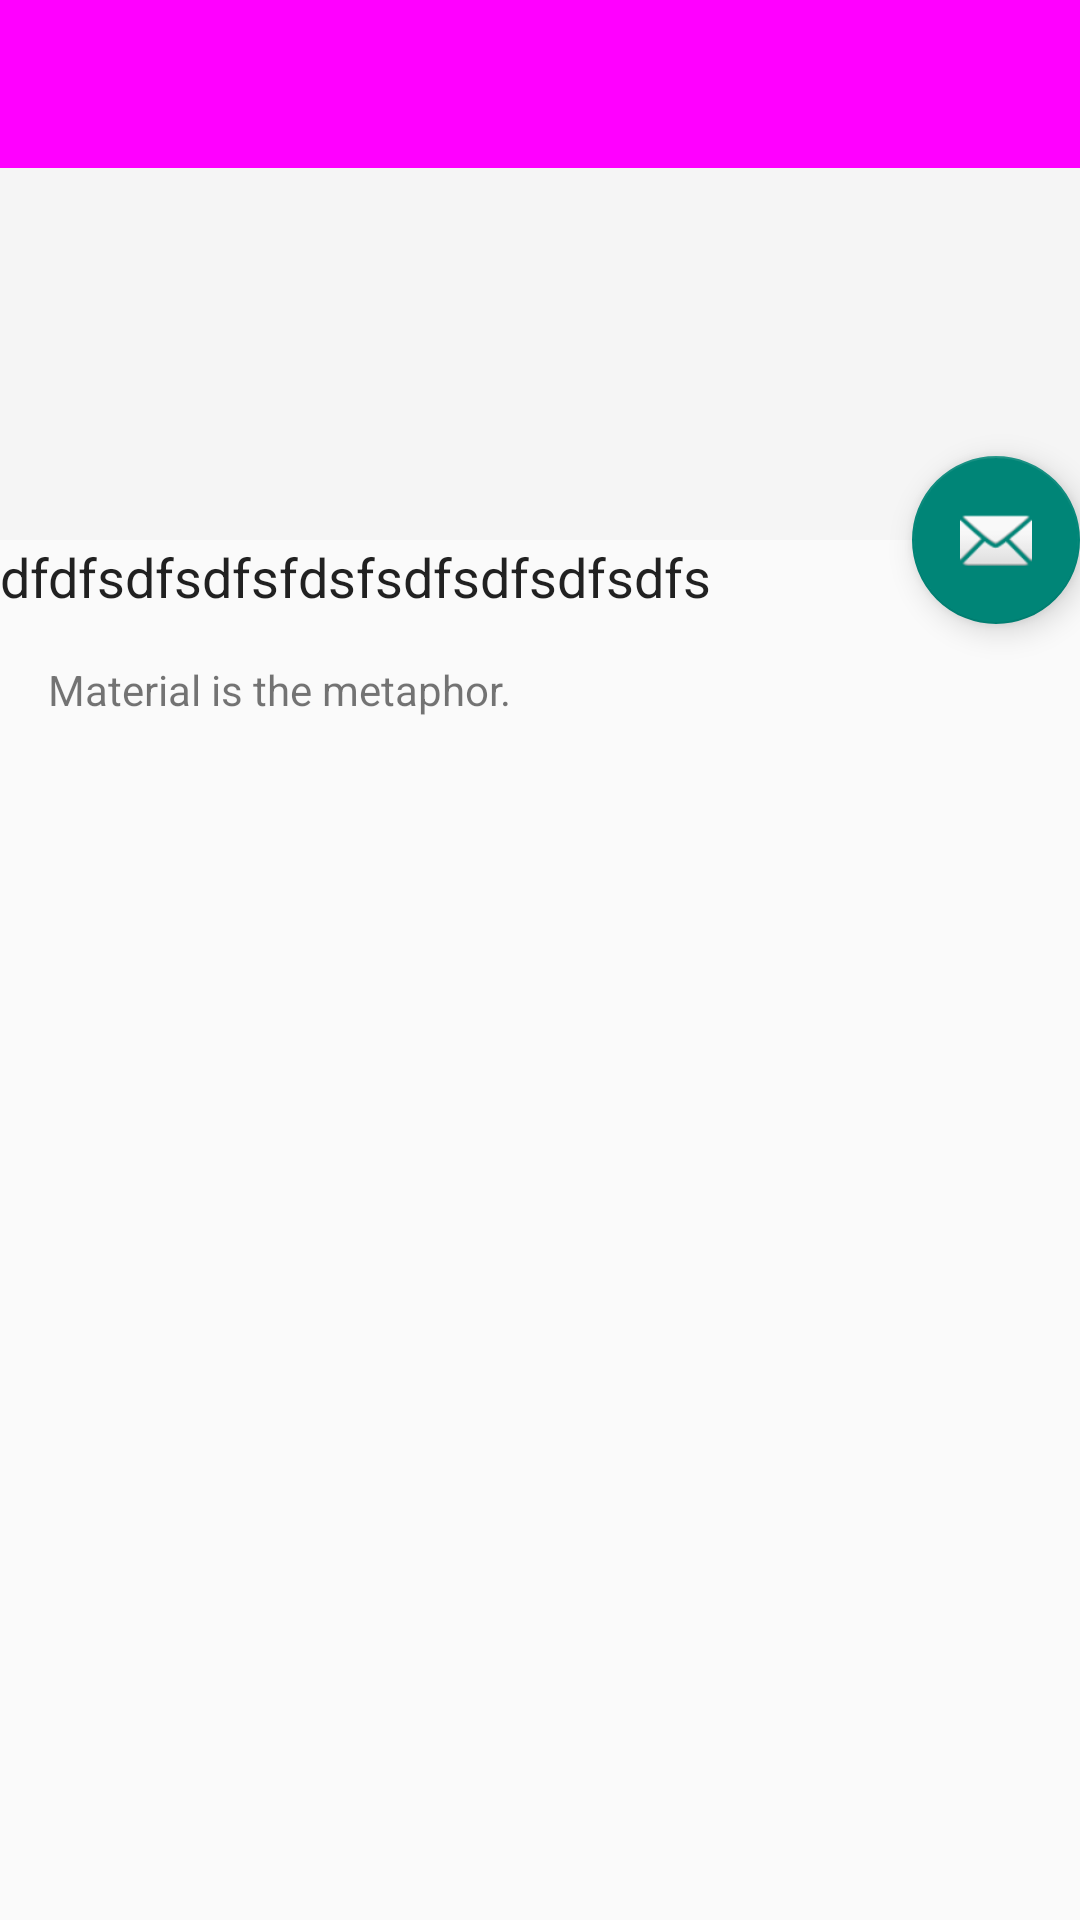

Icons on this 1080×1920 Android screen, each with its box as (x1, y1, x2, y2):
email: (912, 456, 1080, 624)
